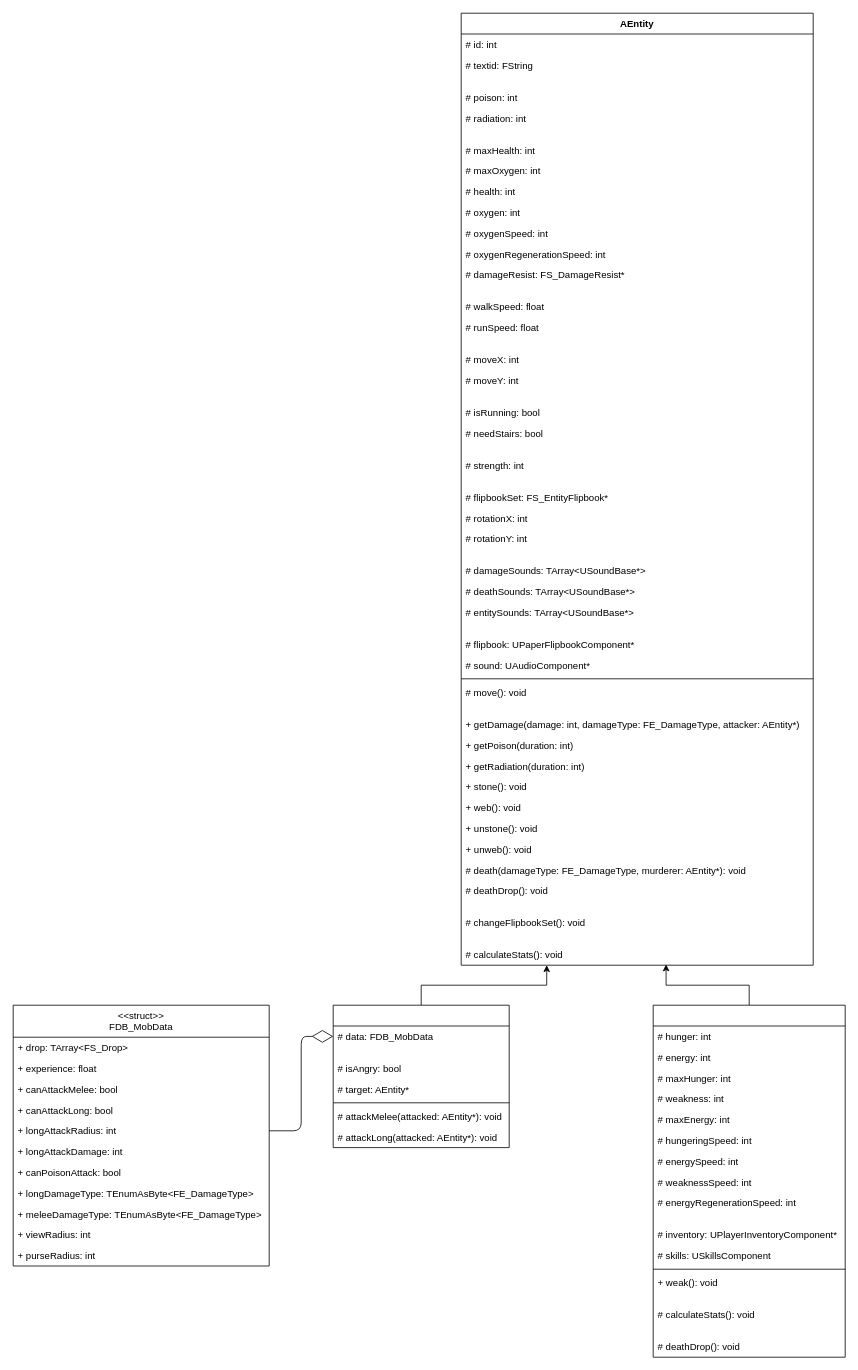
Image size: 858x1370. Some labels were removed from this diagram. The shapes that lost their labels are listed below. From the top down, each one's box as (x1, y1, x2, y2) in pixels, then its label:
(332, 1004, 509, 1148): AMob
(652, 1004, 845, 1357): ALast
